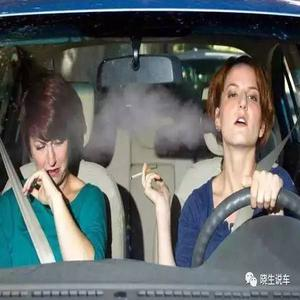cigarette: (130, 168, 156, 180)
